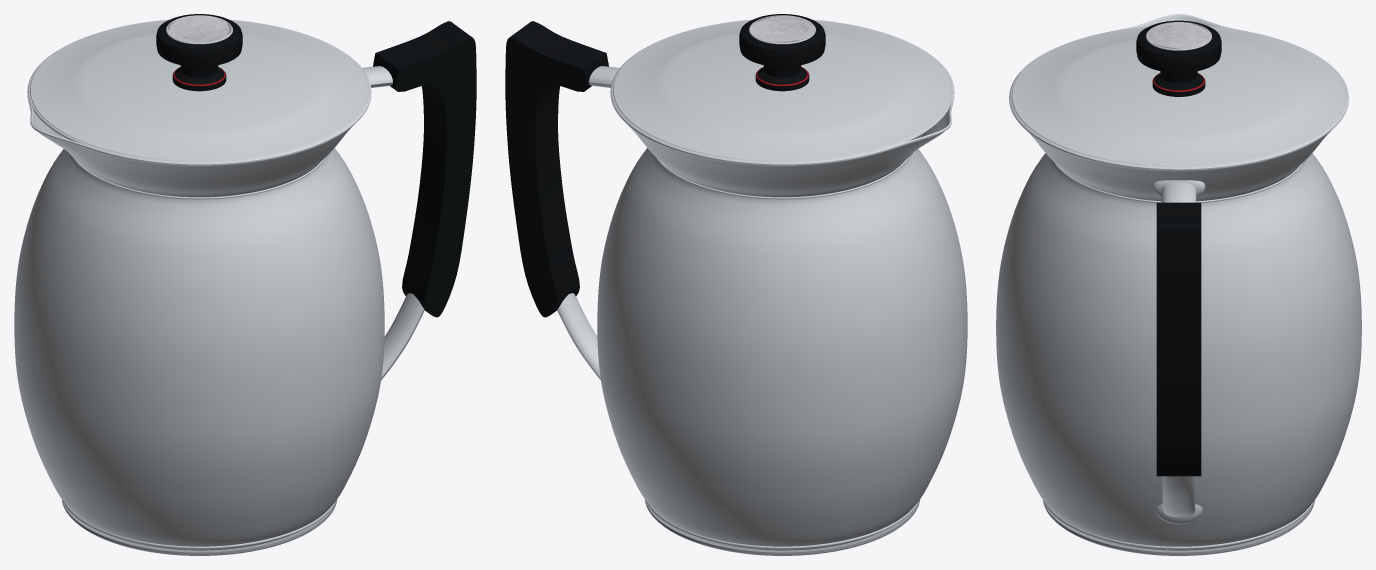
File: chocolatera-v02.glb
3 renders of one model, left to right at view 1: azimuth 30°, elevation 25°; view 2: azimuth 150°, elevation 25°; view 3: azimuth 270°, elevation 25°, orthographic.
Parts seen in each view (by area): view 1: Cuerpo hueco · perfil abombado y boca ensanchada, Tapa de acero · disco y resalte, Asa negra · agarre curvado, Pomo negro · cabeza circular, Base plana de inducción, Soporte metálico inferior curvado, Royal Prestige · emblema del pomo desde foto, Pomo negro · cuello, Borde inferior enrollado, Tapa · borde redondeado, Unión cuello y embudo; view 2: Cuerpo hueco · perfil abombado y boca ensanchada, Tapa de acero · disco y resalte, Asa negra · agarre curvado, Pomo negro · cabeza circular, Base plana de inducción, Soporte metálico inferior curvado, Royal Prestige · emblema del pomo desde foto, Pomo negro · cuello, Borde inferior enrollado, Tapa · borde redondeado, Unión cuello y embudo; view 3: Cuerpo hueco · perfil abombado y boca ensanchada, Tapa de acero · disco y resalte, Asa negra · agarre curvado, Pomo negro · cabeza circular, Base plana de inducción, Royal Prestige · emblema del pomo desde foto, Soporte metálico inferior curvado, Pomo negro · cuello, Borde inferior enrollado, Tapa · borde redondeado, Soporte metálico superior del asa, Unión cuello y embudo.
Part boxes in pixels (x1,y1,x2,y2): Cuerpo hueco · perfil abombado y boca ensanchada: (14, 46, 384, 550); Tapa de acero · disco y resalte: (30, 19, 368, 162); Asa negra · agarre curvado: (373, 21, 476, 317); Pomo negro · cabeza circular: (156, 14, 242, 66); Base plana de inducción: (62, 500, 336, 555); Soporte metálico inferior curvado: (381, 293, 424, 380); Royal Prestige · emblema del pomo desde foto: (167, 15, 231, 42); Pomo negro · cuello: (172, 65, 226, 91); Borde inferior enrollado: (62, 500, 336, 549); Tapa · borde redondeado: (28, 39, 370, 162); Unión cuello y embudo: (72, 156, 326, 199); Cuerpo hueco · perfil abombado y boca ensanchada: (597, 46, 967, 550); Tapa de acero · disco y resalte: (613, 19, 951, 162); Asa negra · agarre curvado: (505, 21, 608, 317); Pomo negro · cabeza circular: (739, 14, 825, 66); Base plana de inducción: (645, 500, 919, 555); Soporte metálico inferior curvado: (557, 293, 600, 380); Royal Prestige · emblema del pomo desde foto: (750, 15, 814, 42); Pomo negro · cuello: (755, 65, 809, 91); Borde inferior enrollado: (645, 500, 919, 549); Tapa · borde redondeado: (611, 39, 953, 162); Unión cuello y embudo: (655, 156, 909, 199); Cuerpo hueco · perfil abombado y boca ensanchada: (996, 14, 1361, 550); Tapa de acero · disco y resalte: (1011, 26, 1346, 166); Asa negra · agarre curvado: (1156, 202, 1201, 476); Pomo negro · cabeza circular: (1136, 20, 1221, 72); Base plana de inducción: (1043, 501, 1314, 555); Royal Prestige · emblema del pomo desde foto: (1147, 22, 1210, 48); Soporte metálico inferior curvado: (1162, 476, 1195, 517); Pomo negro · cuello: (1152, 71, 1205, 96); Borde inferior enrollado: (1043, 500, 1314, 549); Tapa · borde redondeado: (1010, 46, 1347, 167); Soporte metálico superior del asa: (1161, 182, 1196, 202); Unión cuello y embudo: (1053, 161, 1304, 202).
Size of the model in its own units: 0.2418 by 0.2525 by 0.18.
6 materials, 1 textured.
